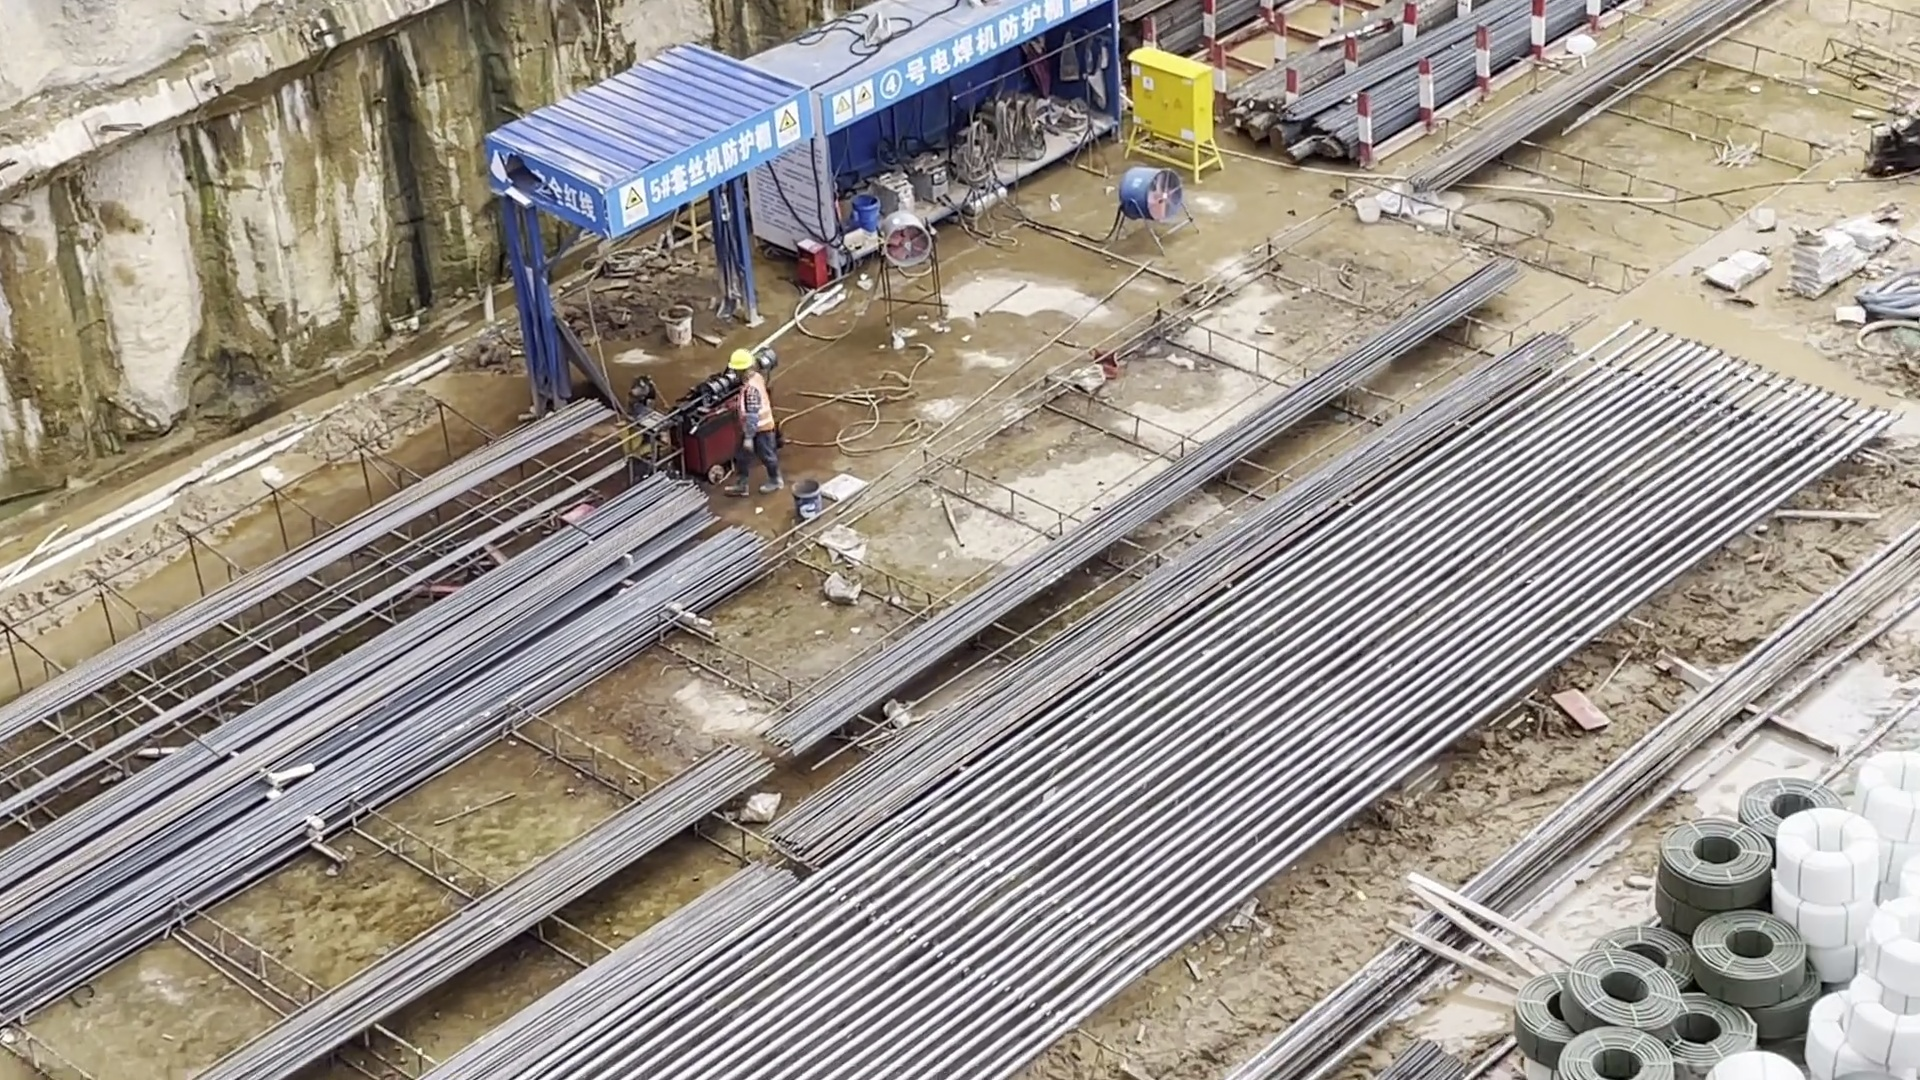ebox: (1128, 43, 1237, 184)
helmet: (727, 349, 751, 369)
person: (723, 349, 792, 502)
rebar: (7, 397, 772, 1004), (763, 249, 1536, 822), (1146, 1, 1747, 205)
slogan: (829, 1, 1096, 134), (614, 91, 811, 238)
vest: (738, 377, 770, 429)
